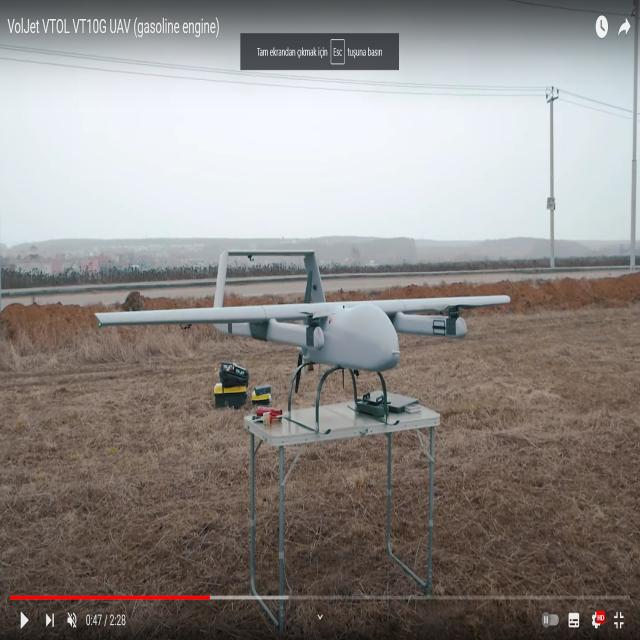iha: (95, 241, 510, 404)
